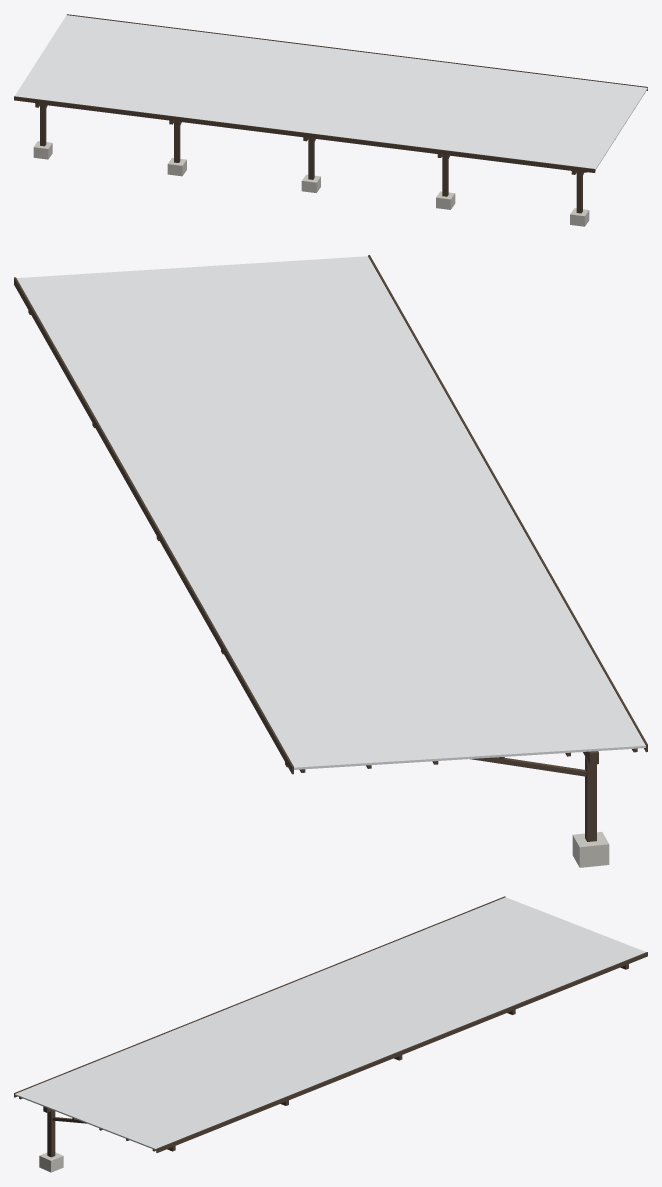
Rendered from Parking.glb.
3 renders of one model, top to bottom at view 1: azimuth 30°, elevation 25°; view 2: azimuth 150°, elevation 25°; view 3: azimuth 270°, elevation 25°, orthographic. The views are drawn at different scales.
Parts seen in each view (by area): view 1: Parking_abri; view 2: Parking_abri; view 3: Parking_abri.
Part boxes in pixels (x1,y1,x2,y2): Parking_abri: (14,14,647,226); Parking_abri: (14,255,647,867); Parking_abri: (14,896,647,1172).
Bounding box in the file's own units: 21.41 × 3.12 × 22.02.
3 materials, 3 textured.
